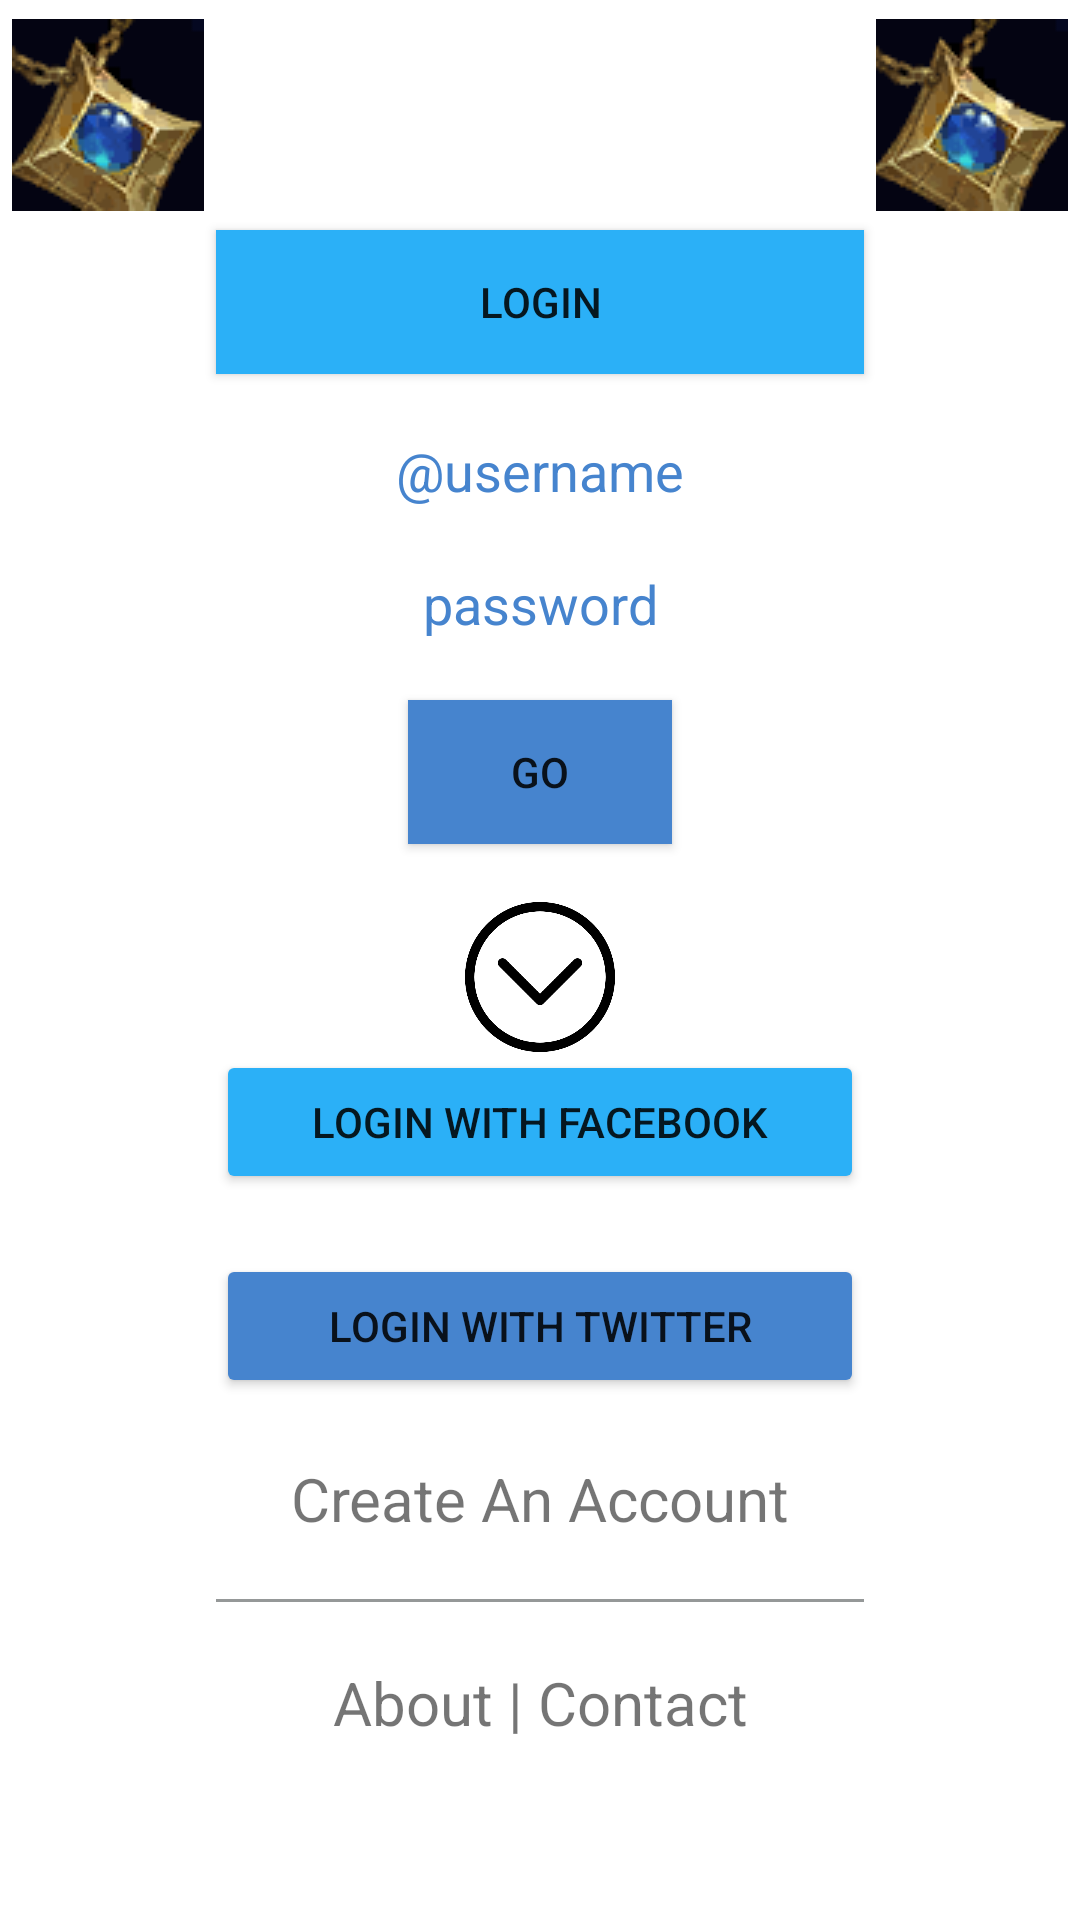

Icons on this 1080w x 1920h Android screen, each with its box as {"left": x1, "top": y1, "right": x2, "bottom": y2}:
drrow: {"left": 465, "top": 902, "right": 615, "bottom": 1052}
